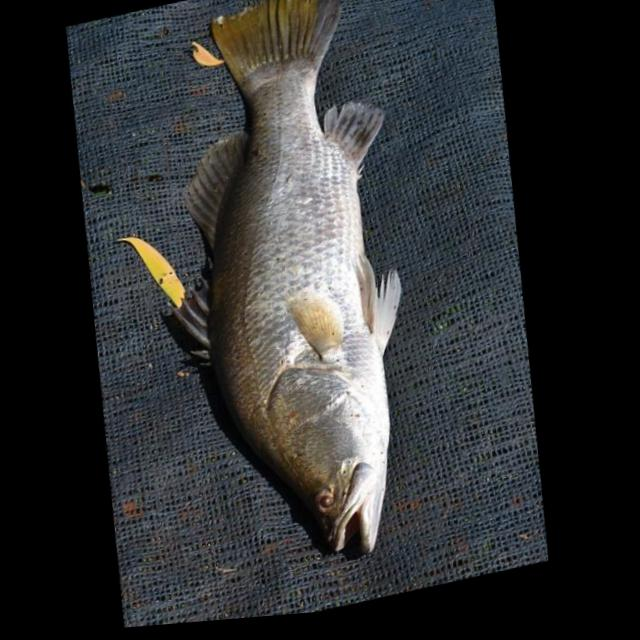Seabass: (113, 0, 451, 604)
